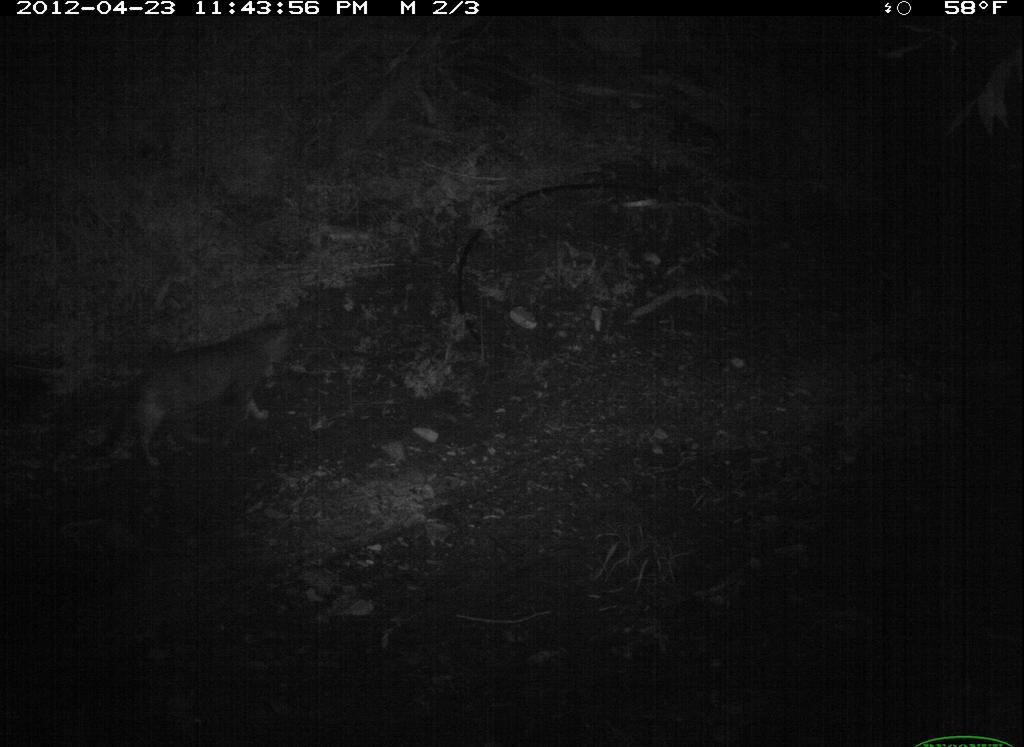cat: (80, 303, 315, 482)
